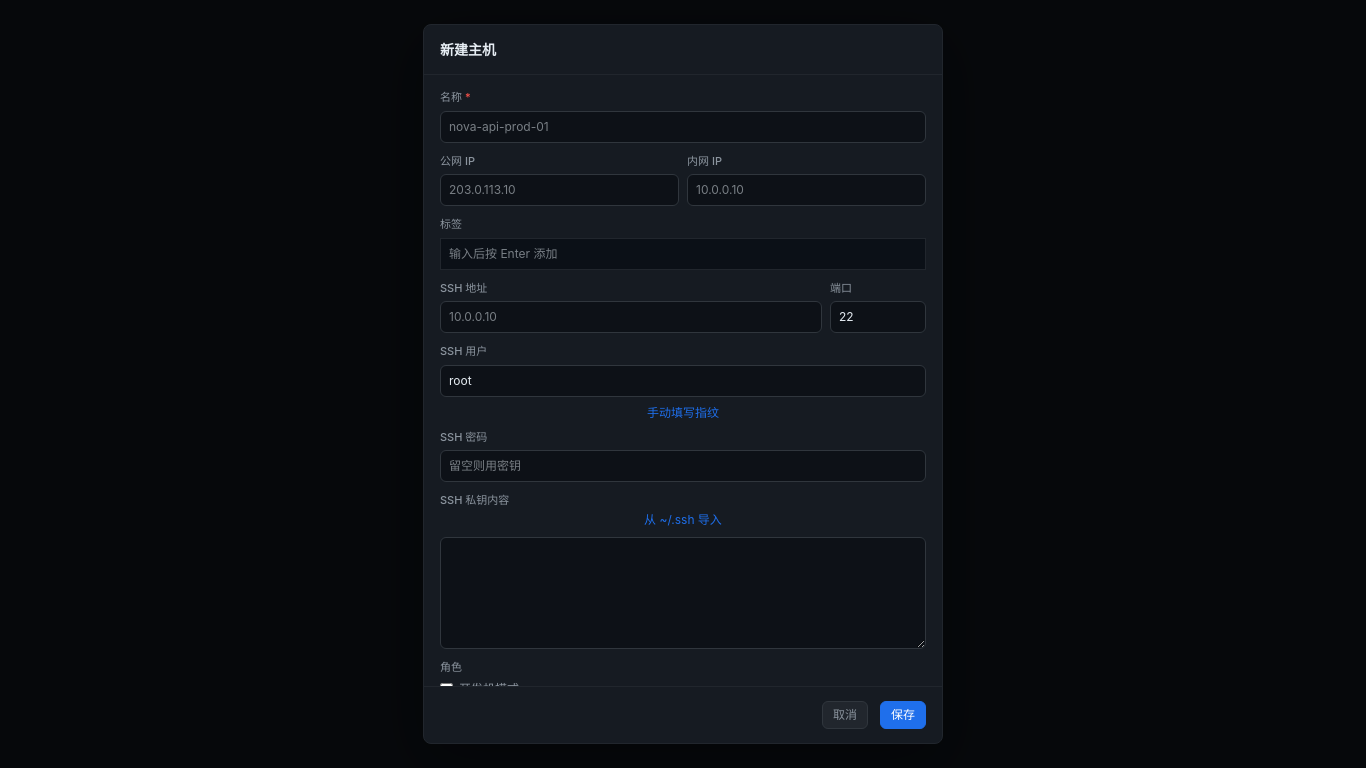
Test: HostFormModal › 扫描到唯一私钥时直接填入路径
Click the button with test id "host-form-import-key": (683, 520) top-left (440, 514), bottom-right (926, 526)
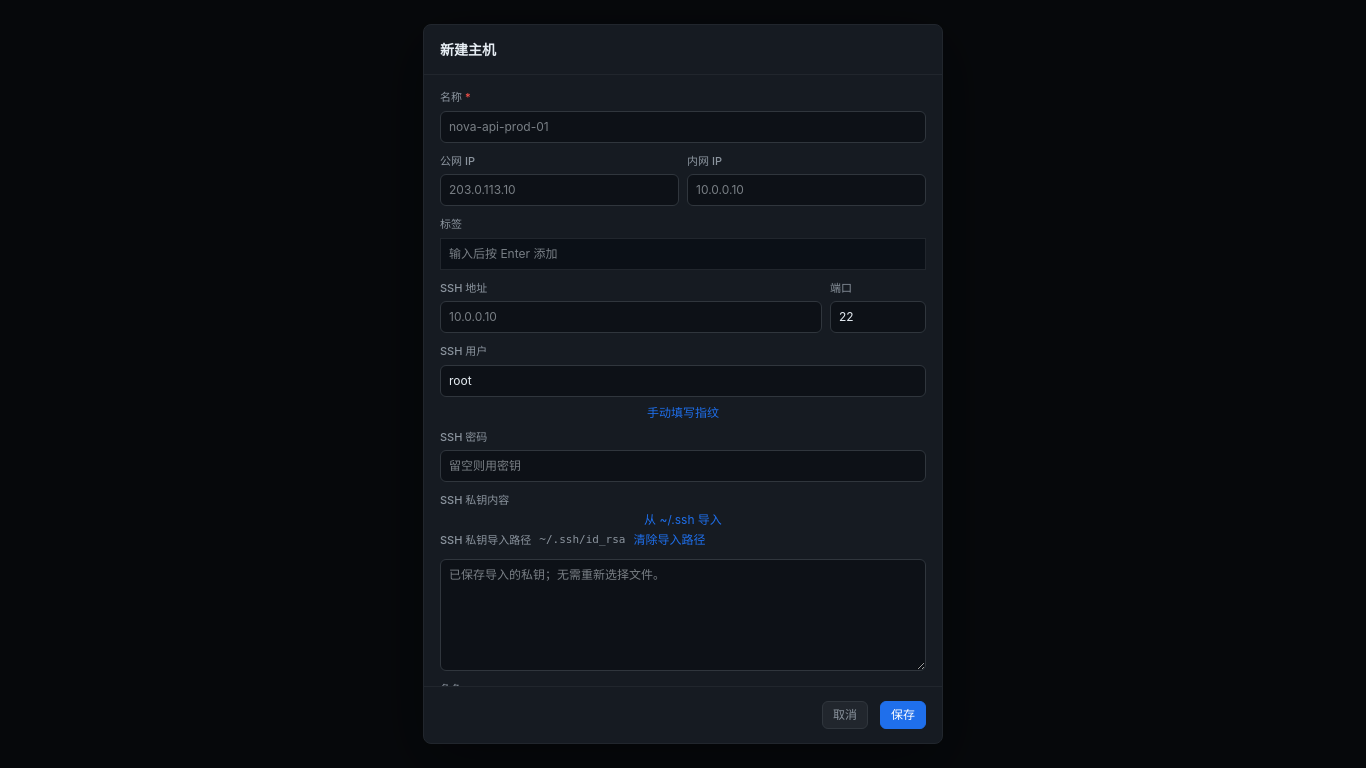
Result: the text with test id "host-form-key-path" reads "~/.ssh/id_rsa" at top-left (539, 532), bottom-right (625, 546)
